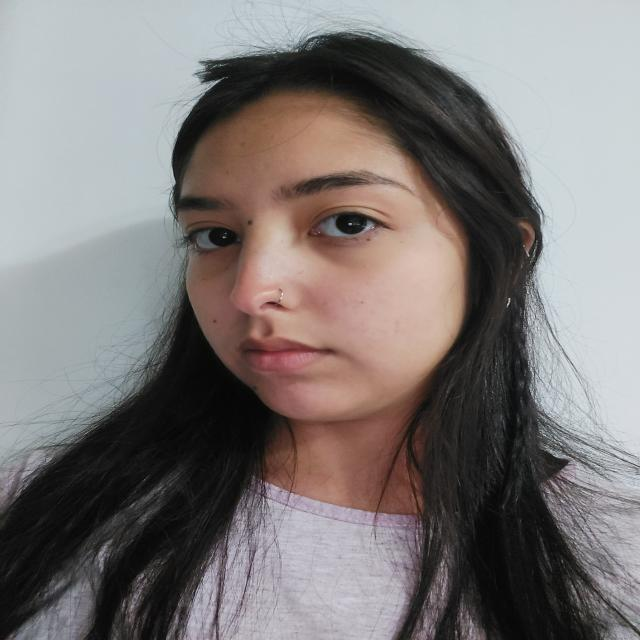Acne: (356, 298, 370, 308)
Englarged-Pores: (251, 259, 291, 285)
